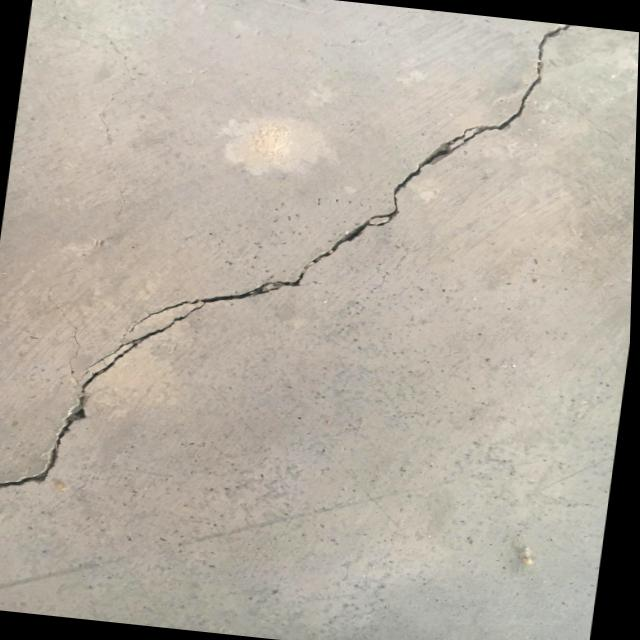Crack: (294, 0, 577, 308), (0, 245, 301, 527)
